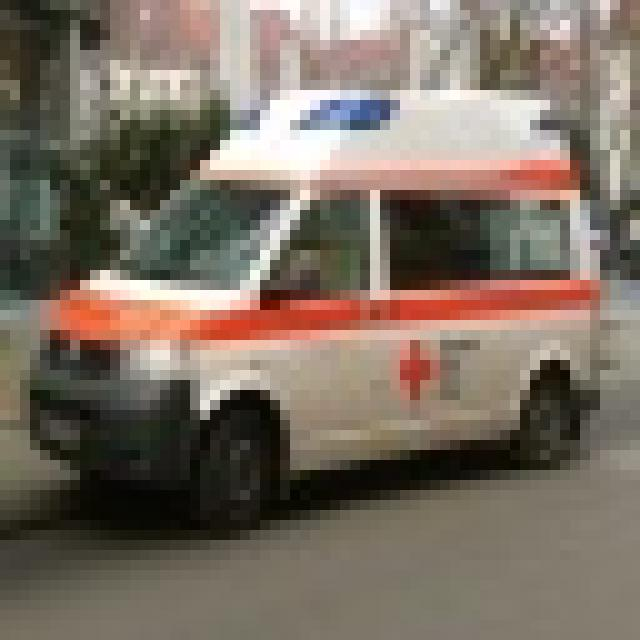Ambulance: (20, 80, 610, 530)
